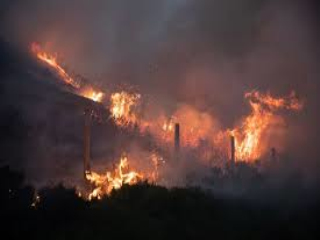fire: (31, 47, 140, 115), (231, 83, 297, 170), (82, 162, 163, 197), (153, 106, 222, 144)
